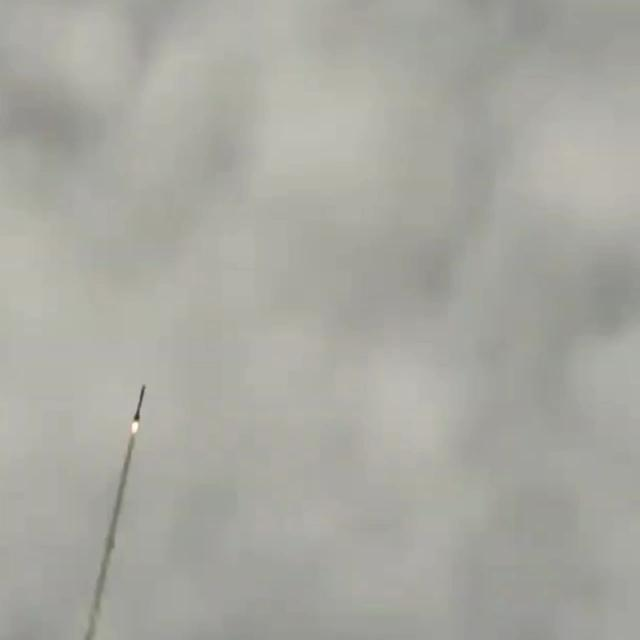smoke_trail_with_rocket: (82, 384, 146, 640)
